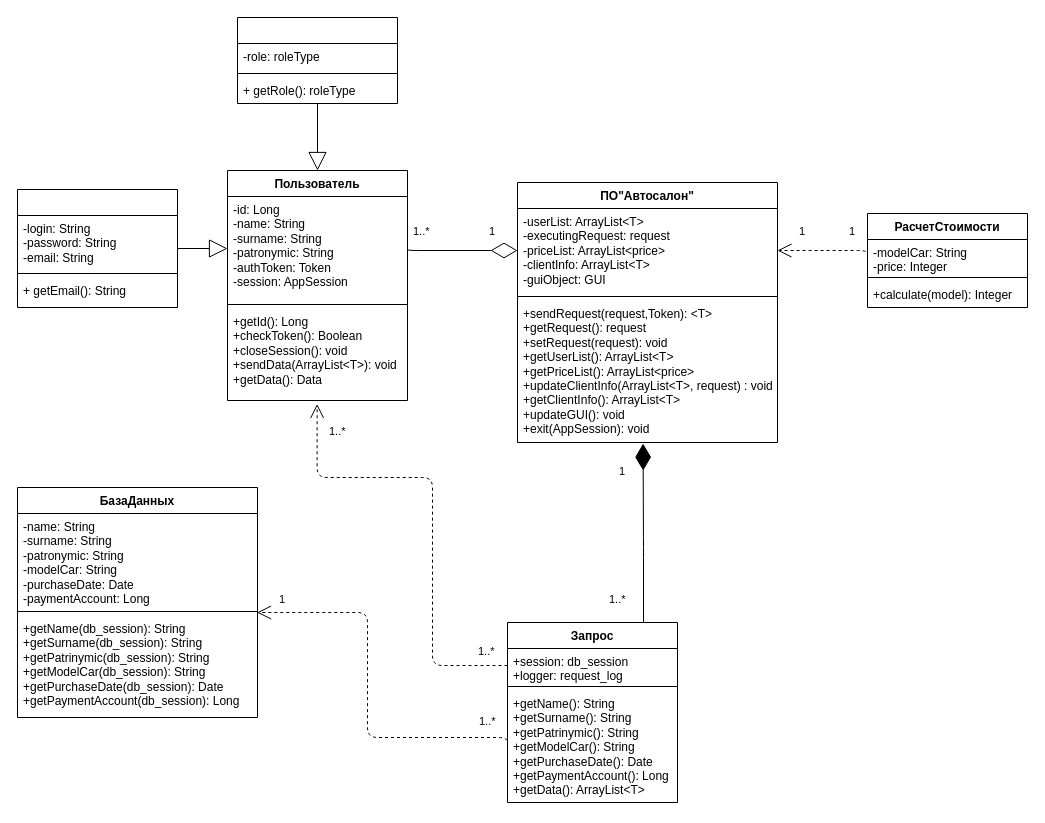
The diagram is 1045 pixels wide and 823 high, and some of its shapes have lost their labels. Each missing label, with the box of its shape:
Клиент: (16, 188, 178, 308)
Сотрудник: (236, 16, 398, 104)
